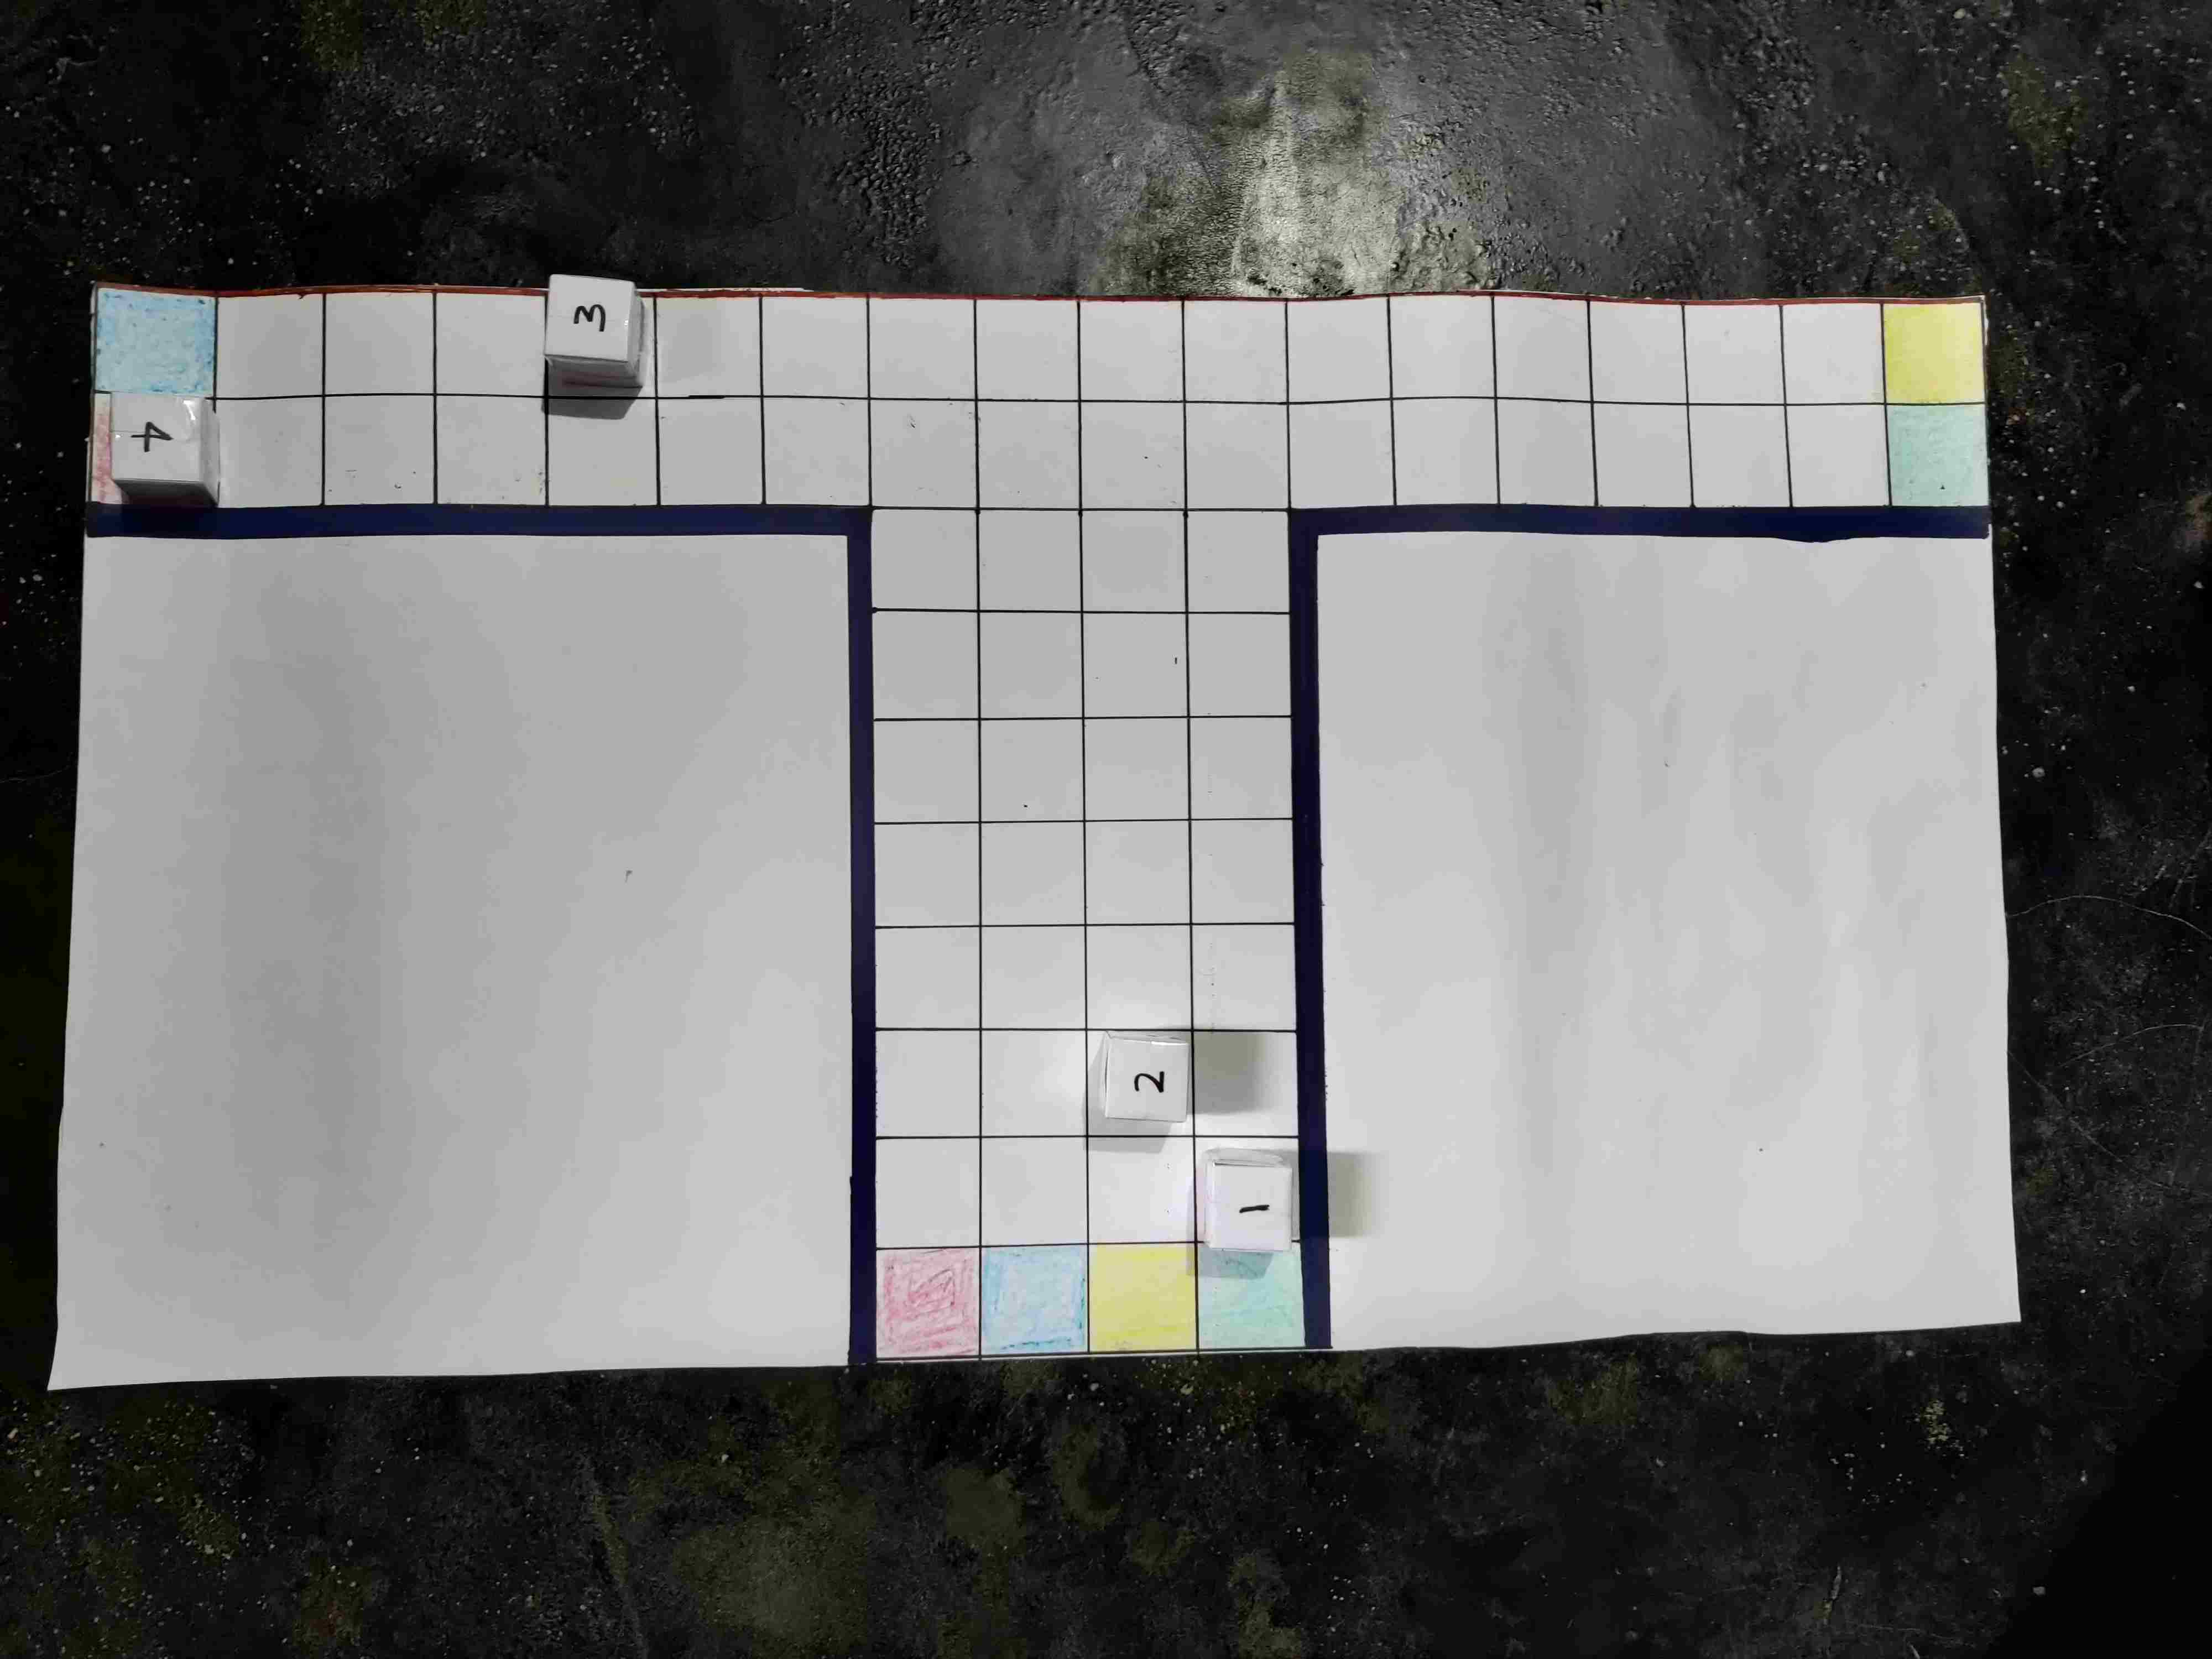arena: (129, 342, 2076, 1492)
bot: (1897, 1286, 1989, 1373), (880, 920, 967, 1004), (991, 617, 1073, 699), (1109, 486, 1197, 563)
